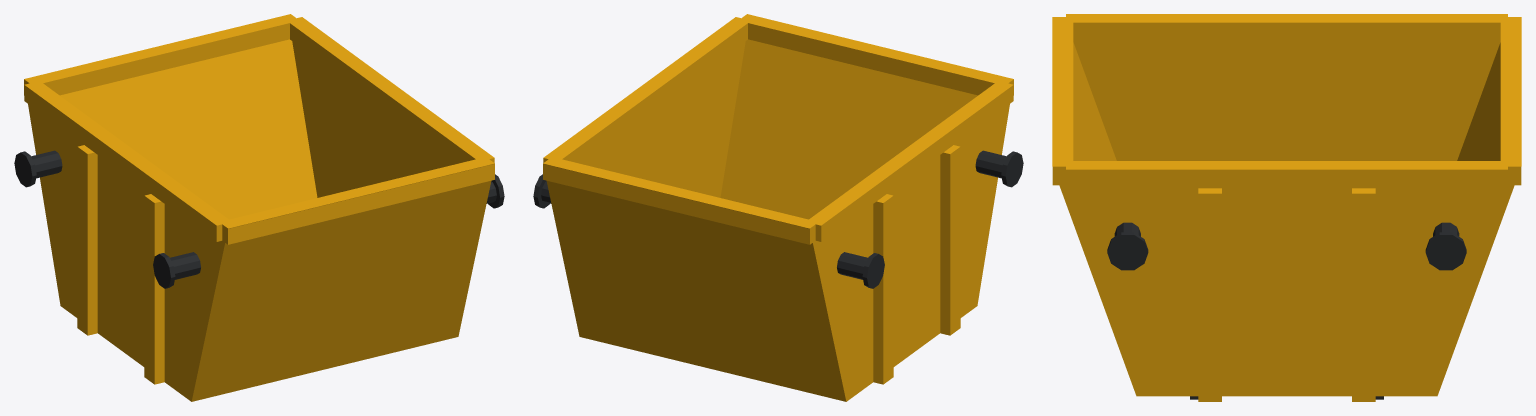
File: plant.skip.mini_2yd.glb
3 renders of one model, left to right at view 1: azimuth 30°, elevation 25°; view 2: azimuth 150°, elevation 25°; view 3: azimuth 270°, elevation 25°, orthographic. The views are drawn at different scales.
Visible parts, largest first — view 1: main__plant_yellow, main__steel_dark; view 2: main__plant_yellow, main__steel_dark; view 3: main__plant_yellow, main__steel_dark.
Boxes of the visible parts, box(x1,y1,x2,y2) form: main__plant_yellow: box(24, 14, 494, 401); main__steel_dark: box(14, 150, 504, 288); main__plant_yellow: box(543, 14, 1013, 401); main__steel_dark: box(533, 150, 1023, 288); main__plant_yellow: box(1052, 14, 1521, 401); main__steel_dark: box(1107, 222, 1466, 399).
Size of the model in its own units: 1.5 by 0.9 by 1.59.
